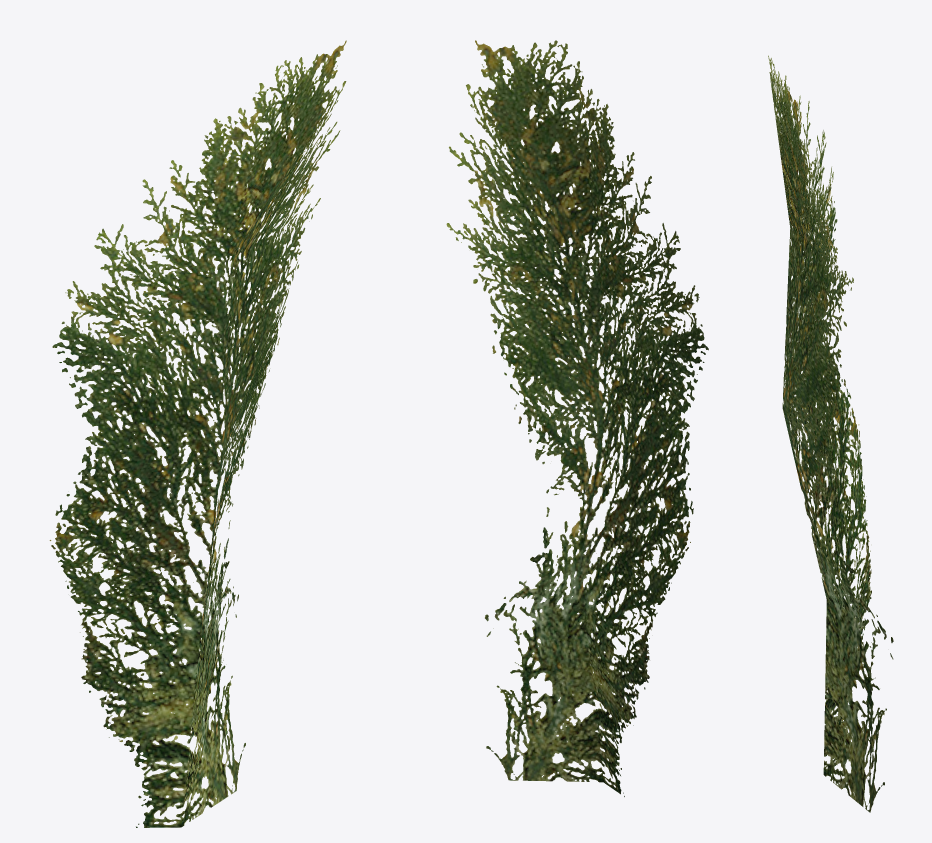
3 views of the same model, side by side, from view 1: azimuth 30°, elevation 25°; view 2: azimuth 150°, elevation 25°; view 3: azimuth 270°, elevation 25° (orthographic). The views are drawn at different scales.
Parts seen in each view (by area): view 1: Cystoseira.003; view 2: Cystoseira.003; view 3: Cystoseira.003.
Part boxes in pixels (left/top/right/bottom): Cystoseira.003: left=49, top=40, right=346, bottom=827; Cystoseira.003: left=446, top=40, right=708, bottom=796; Cystoseira.003: left=768, top=55, right=893, bottom=812.
Bounding box in the file's own units: 0.5452 × 1.15 × 0.2063.
Materials: 1 (1 with a texture image).
